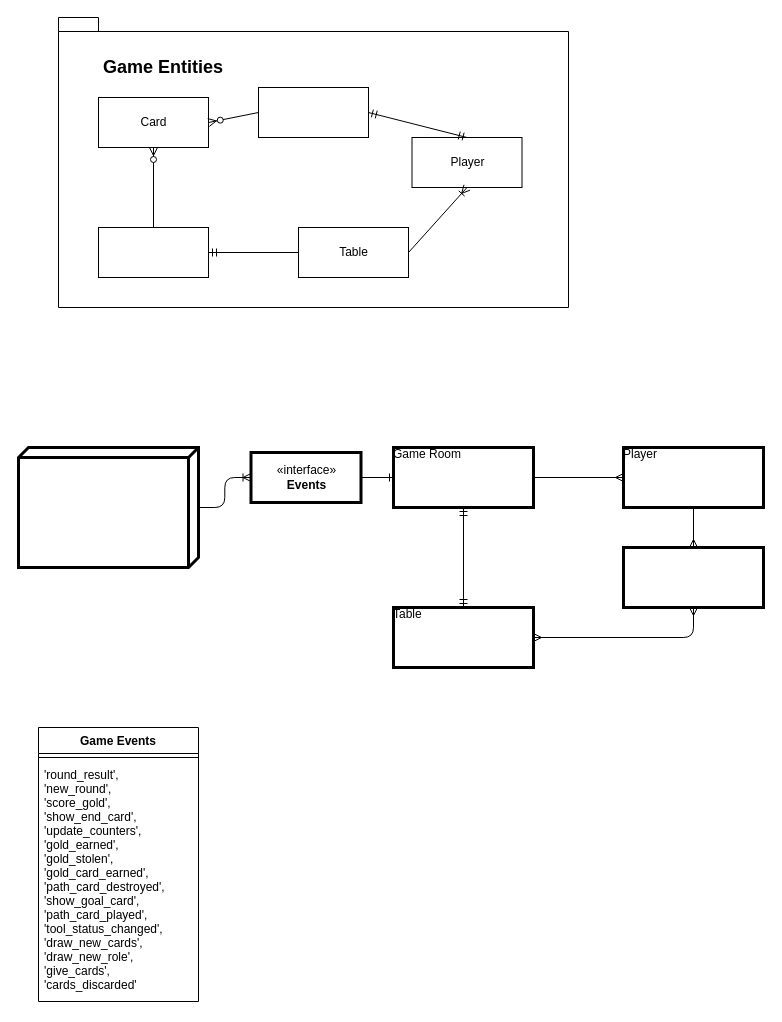
This 782x1022 diagram has some shape labels left out. The shapes that lost their labels are listed below. From the top down, each one's centre as x and y in pixels, then its label:
At [313,112]: "Hand".
At [153,252]: "Deck".
At [108,507]: "Server".
At [693,577]: "Cards".
